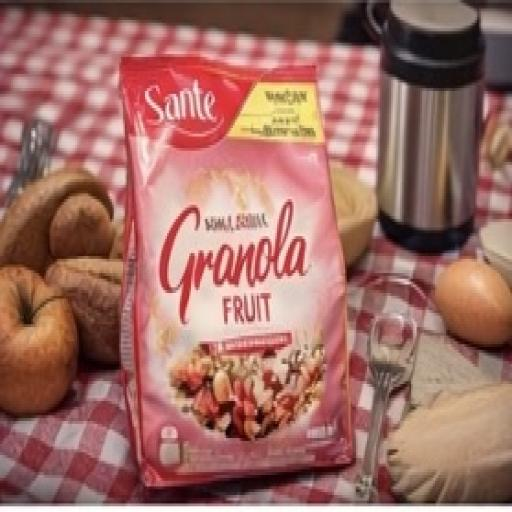granola: (84, 32, 404, 494)
